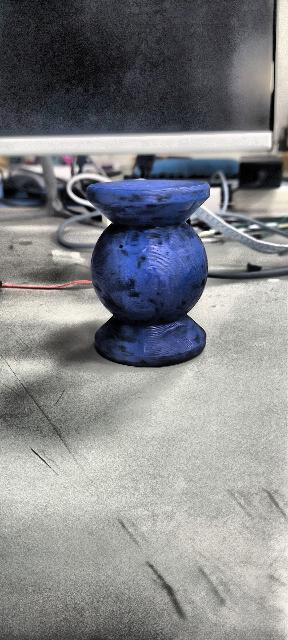blue: (85, 178, 210, 366)
